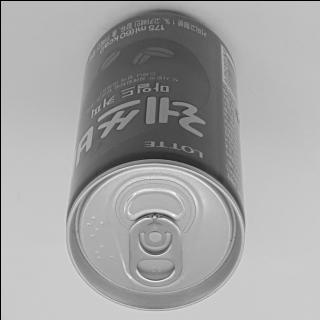alumunium_can: (59, 8, 250, 306)
